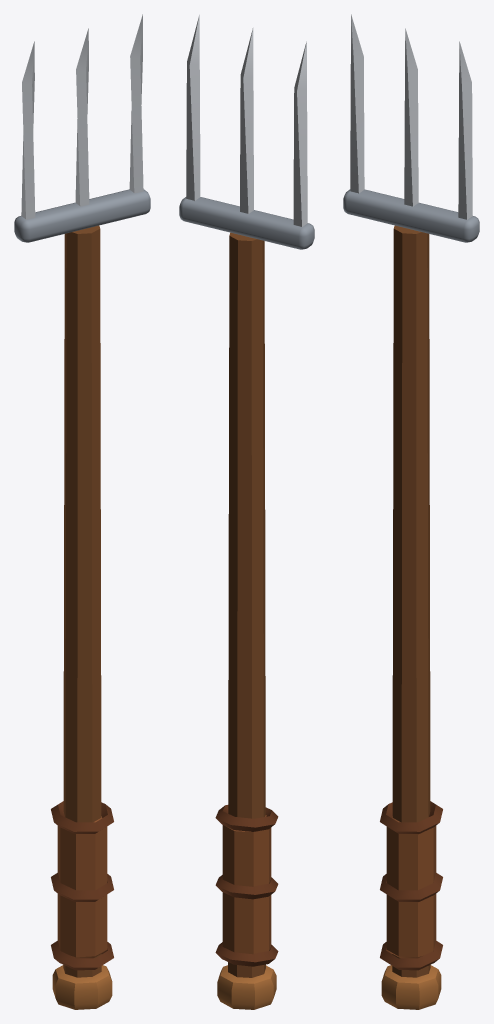
The model's file is Pitchfork.fbx.
3 renders of one model, left to right at view 1: azimuth 30°, elevation 25°; view 2: azimuth 150°, elevation 25°; view 3: azimuth 330°, elevation 25°, orthographic.
Parts seen in each view (by area): view 1: Pitchfork; view 2: Pitchfork; view 3: Pitchfork.
Part boxes in pixels (<box>): Pitchfork: <box>14,14,150,1009</box>; Pitchfork: <box>179,14,314,1009</box>; Pitchfork: <box>343,14,479,1009</box>.
Size of the model in its own units: 0.6 by 4.32 by 0.2614.
Materials: 1 (1 with a texture image).
